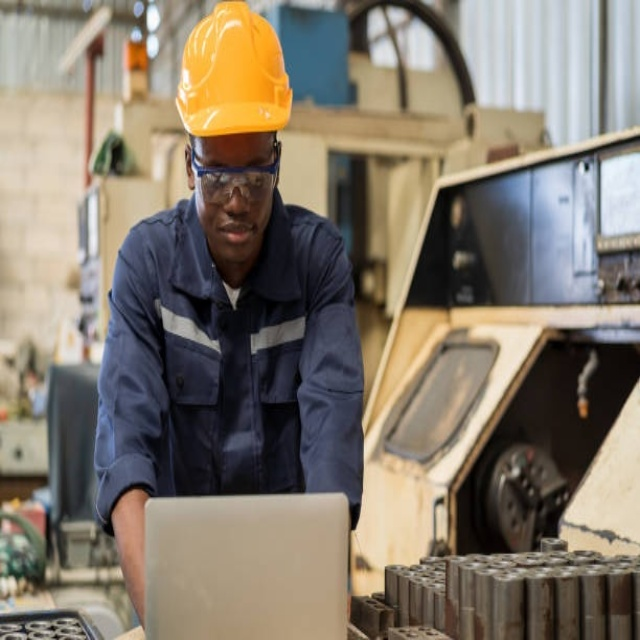Gafas: (189, 146, 282, 205)
Sin_mascara: (212, 213, 257, 259)
